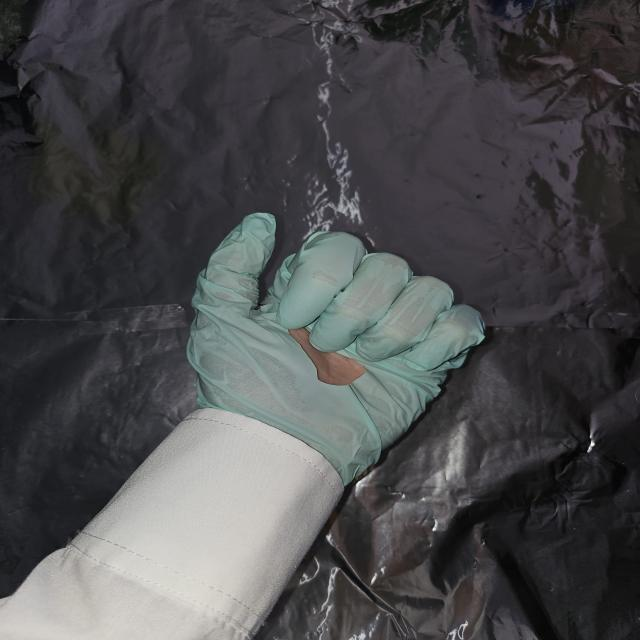gloves_damaged: (184, 211, 489, 489)
